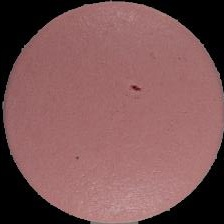67046-515: (0, 0, 224, 224)
